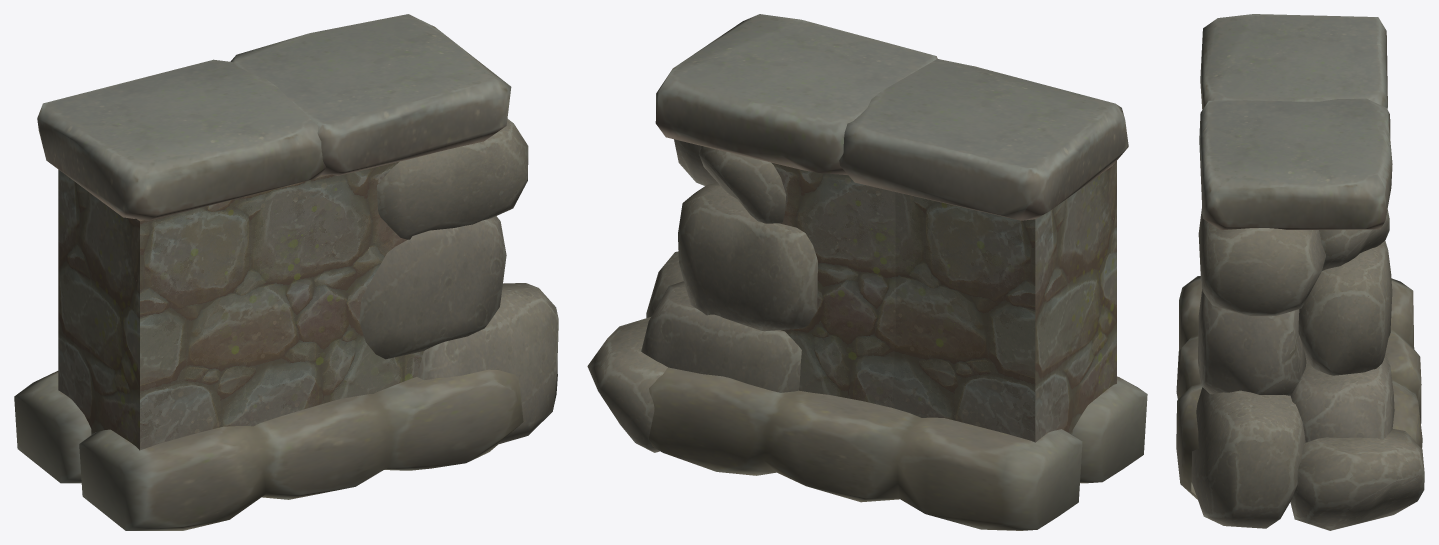
Rendered from SM_FW01_Ruins_Int_Trim_C_2m_Brkn_01.fbx.
3 renders of one model, left to right at view 1: azimuth 30°, elevation 25°; view 2: azimuth 150°, elevation 25°; view 3: azimuth 270°, elevation 25°, orthographic. The views are drawn at different scales.
Parts seen in each view (by area): view 1: SM_FW01_Ruins_Int_Trim_C_2m_Brkn_01_LOD0, SM_FW01_Ruins_Int_Trim_C_2m_Brkn_01; view 2: SM_FW01_Ruins_Int_Trim_C_2m_Brkn_01_LOD0, SM_FW01_Ruins_Int_Trim_C_2m_Brkn_01; view 3: SM_FW01_Ruins_Int_Trim_C_2m_Brkn_01_LOD0.
Boxes of the visible parts, box(x1,y1,x2,y2) form: SM_FW01_Ruins_Int_Trim_C_2m_Brkn_01_LOD0: box(14, 14, 558, 530); SM_FW01_Ruins_Int_Trim_C_2m_Brkn_01: box(58, 162, 423, 450); SM_FW01_Ruins_Int_Trim_C_2m_Brkn_01_LOD0: box(587, 14, 1147, 530); SM_FW01_Ruins_Int_Trim_C_2m_Brkn_01: box(771, 161, 1116, 442); SM_FW01_Ruins_Int_Trim_C_2m_Brkn_01_LOD0: box(1176, 14, 1424, 530).
Size of what is drawn, in the model's own units: 1.62 by 1.26 by 0.8352.
